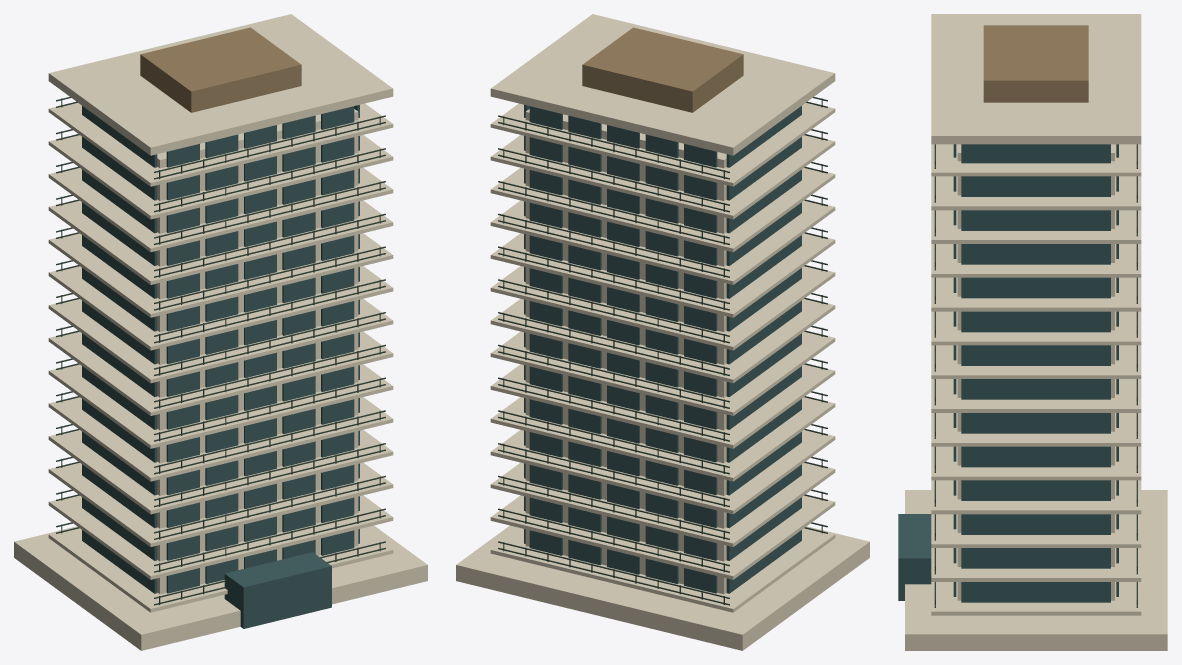
The model's file is residence.glb.
3 views of the same model, side by side, from view 1: azimuth 30°, elevation 25°; view 2: azimuth 150°, elevation 25°; view 3: azimuth 270°, elevation 25° (orthographic). The views are drawn at different scales.
Bounding box in the file's own units: 13 × 22.1 × 10.25.
